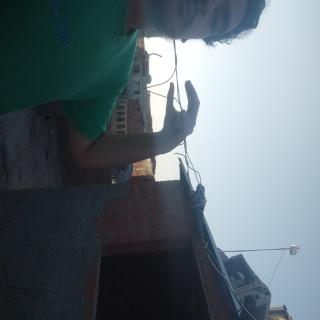DHELL: (55, 158, 119, 228)
